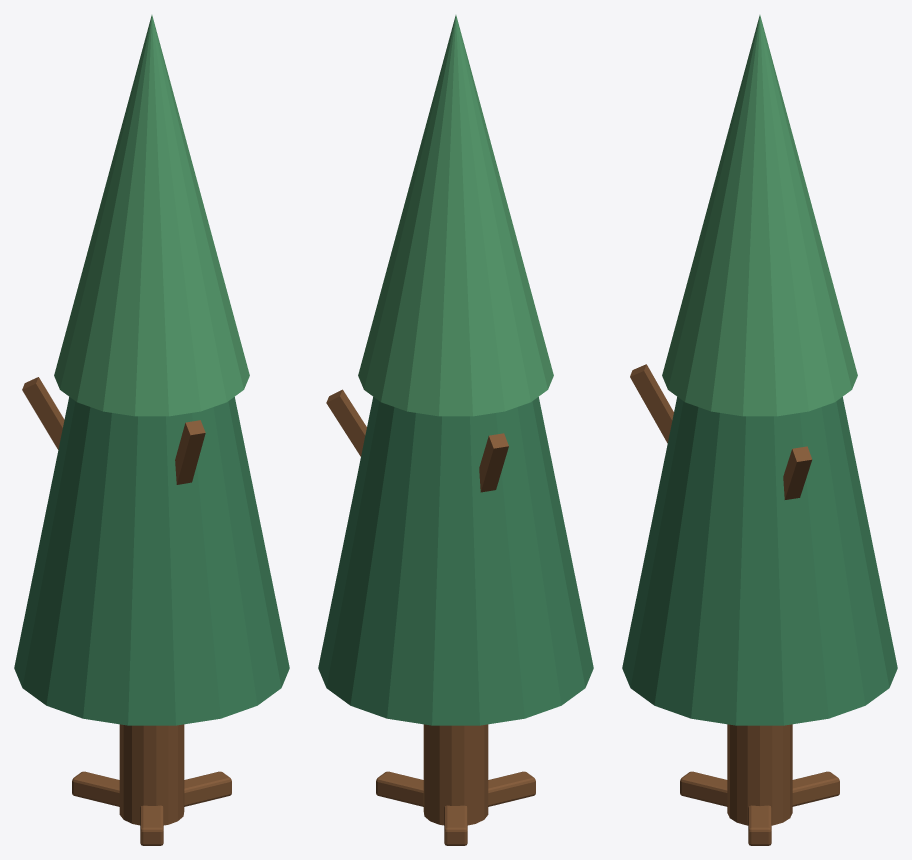
Rendered from NAT_TREE_CYPRESS_1x1_001.glb.
3 views of the same model, side by side, from view 1: azimuth 30°, elevation 25°; view 2: azimuth 150°, elevation 25°; view 3: azimuth 270°, elevation 25° (orthographic).
Parts seen in each view (by area): view 1: NAT_TREE_CYPRESS_1x1_001_Visual; view 2: NAT_TREE_CYPRESS_1x1_001_Visual; view 3: NAT_TREE_CYPRESS_1x1_001_Visual.
Part boxes in pixels (<box>): NAT_TREE_CYPRESS_1x1_001_Visual: <box>14,15,289,845</box>; NAT_TREE_CYPRESS_1x1_001_Visual: <box>318,15,593,845</box>; NAT_TREE_CYPRESS_1x1_001_Visual: <box>622,15,897,845</box>.
Size of what is drawn, in the model's own units: 0.7485 by 2.43 by 0.76.
